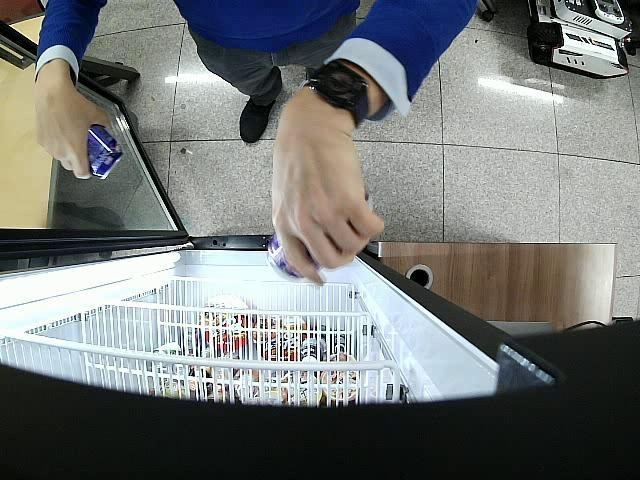14_welchsGrape: (267, 190, 373, 280), (86, 123, 126, 178)
